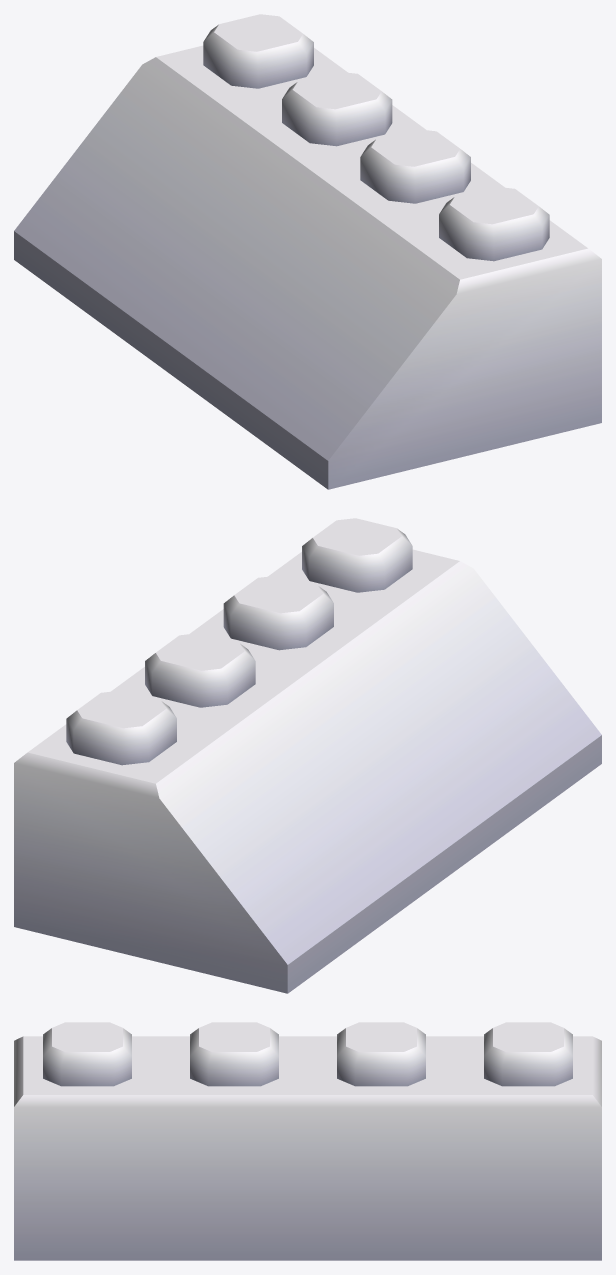
File: kenney-brick-bevel-hq-brick-slope-2-x-4.glb
3 views of the same model, one above another, from view 1: azimuth 30°, elevation 25°; view 2: azimuth 150°, elevation 25°; view 3: azimuth 270°, elevation 25° (orthographic). The views are drawn at different scales.
Parts seen in each view (by area): view 1: bevel-hq-brick-slope-2x4; view 2: bevel-hq-brick-slope-2x4; view 3: bevel-hq-brick-slope-2x4.
Boxes of the visible parts, <box> form: bevel-hq-brick-slope-2x4: <box>14,14,601,489</box>; bevel-hq-brick-slope-2x4: <box>14,518,601,993</box>; bevel-hq-brick-slope-2x4: <box>14,1022,601,1260</box>.
Bounding box in the file's own units: 0.159 × 0.114 × 0.316.
1 material, 1 textured.
